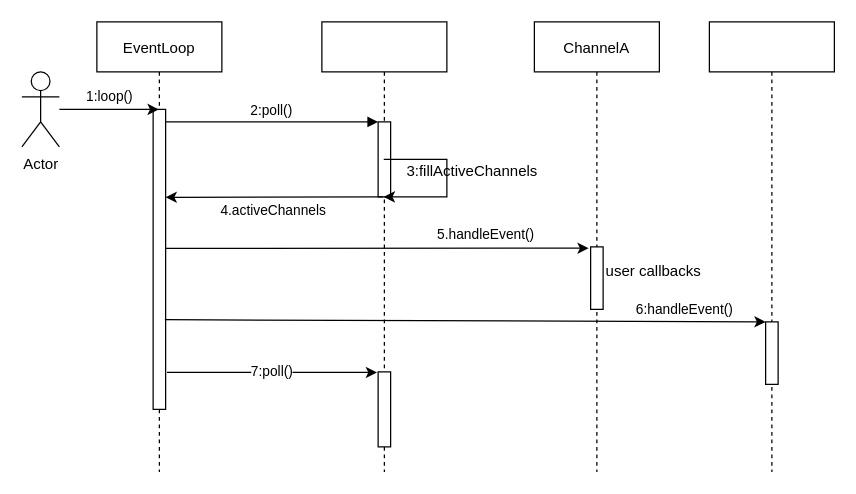
Some shapes in this 856 by 494 pixel diagram are drawn without their labels. Each missing label, with the box of its shape:
ChannelB: (708, 21, 834, 472)
Poller: (321, 21, 447, 472)
